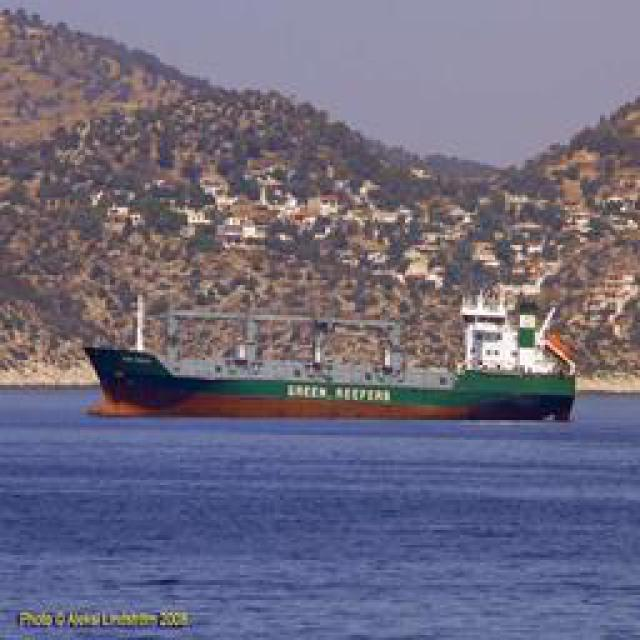Ship: (75, 320, 568, 425)
